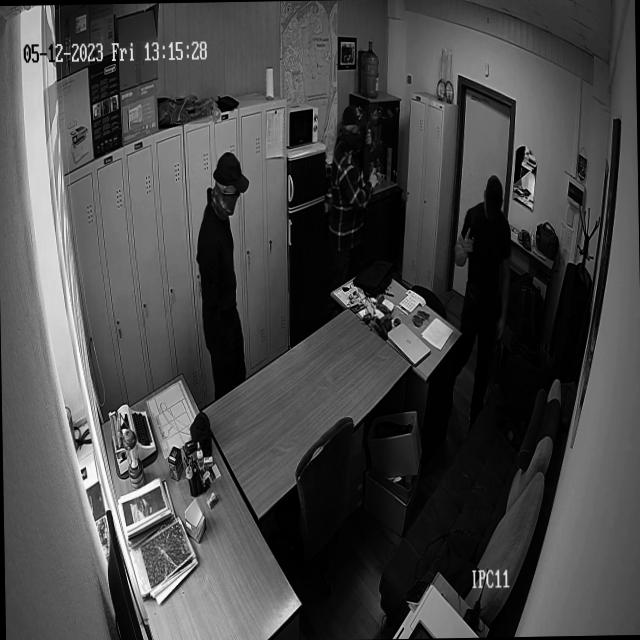gun: (361, 87, 376, 200), (461, 220, 477, 261)
person: (195, 148, 247, 398)
person with a gun: (442, 170, 512, 430), (322, 83, 380, 316)
